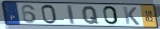0: (102, 5, 120, 26), (40, 4, 58, 24)
6: (21, 3, 38, 24)
I: (66, 5, 76, 25)
K: (122, 7, 141, 26)
Q: (82, 6, 100, 25)
